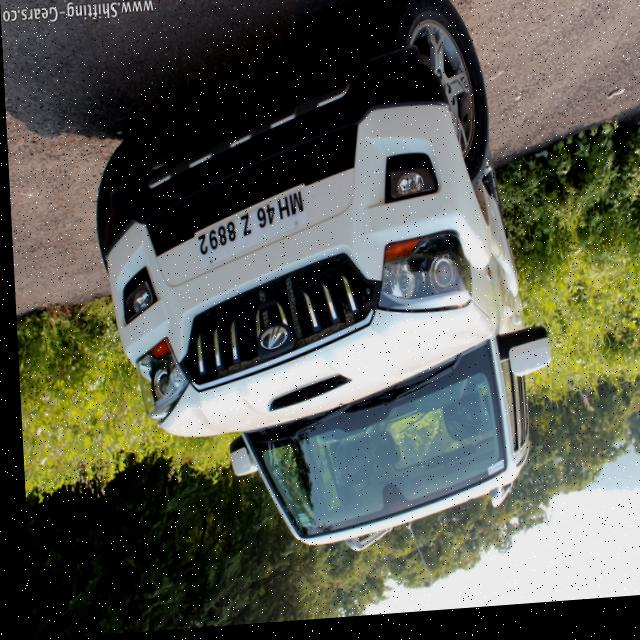plate: (190, 191, 309, 271)
